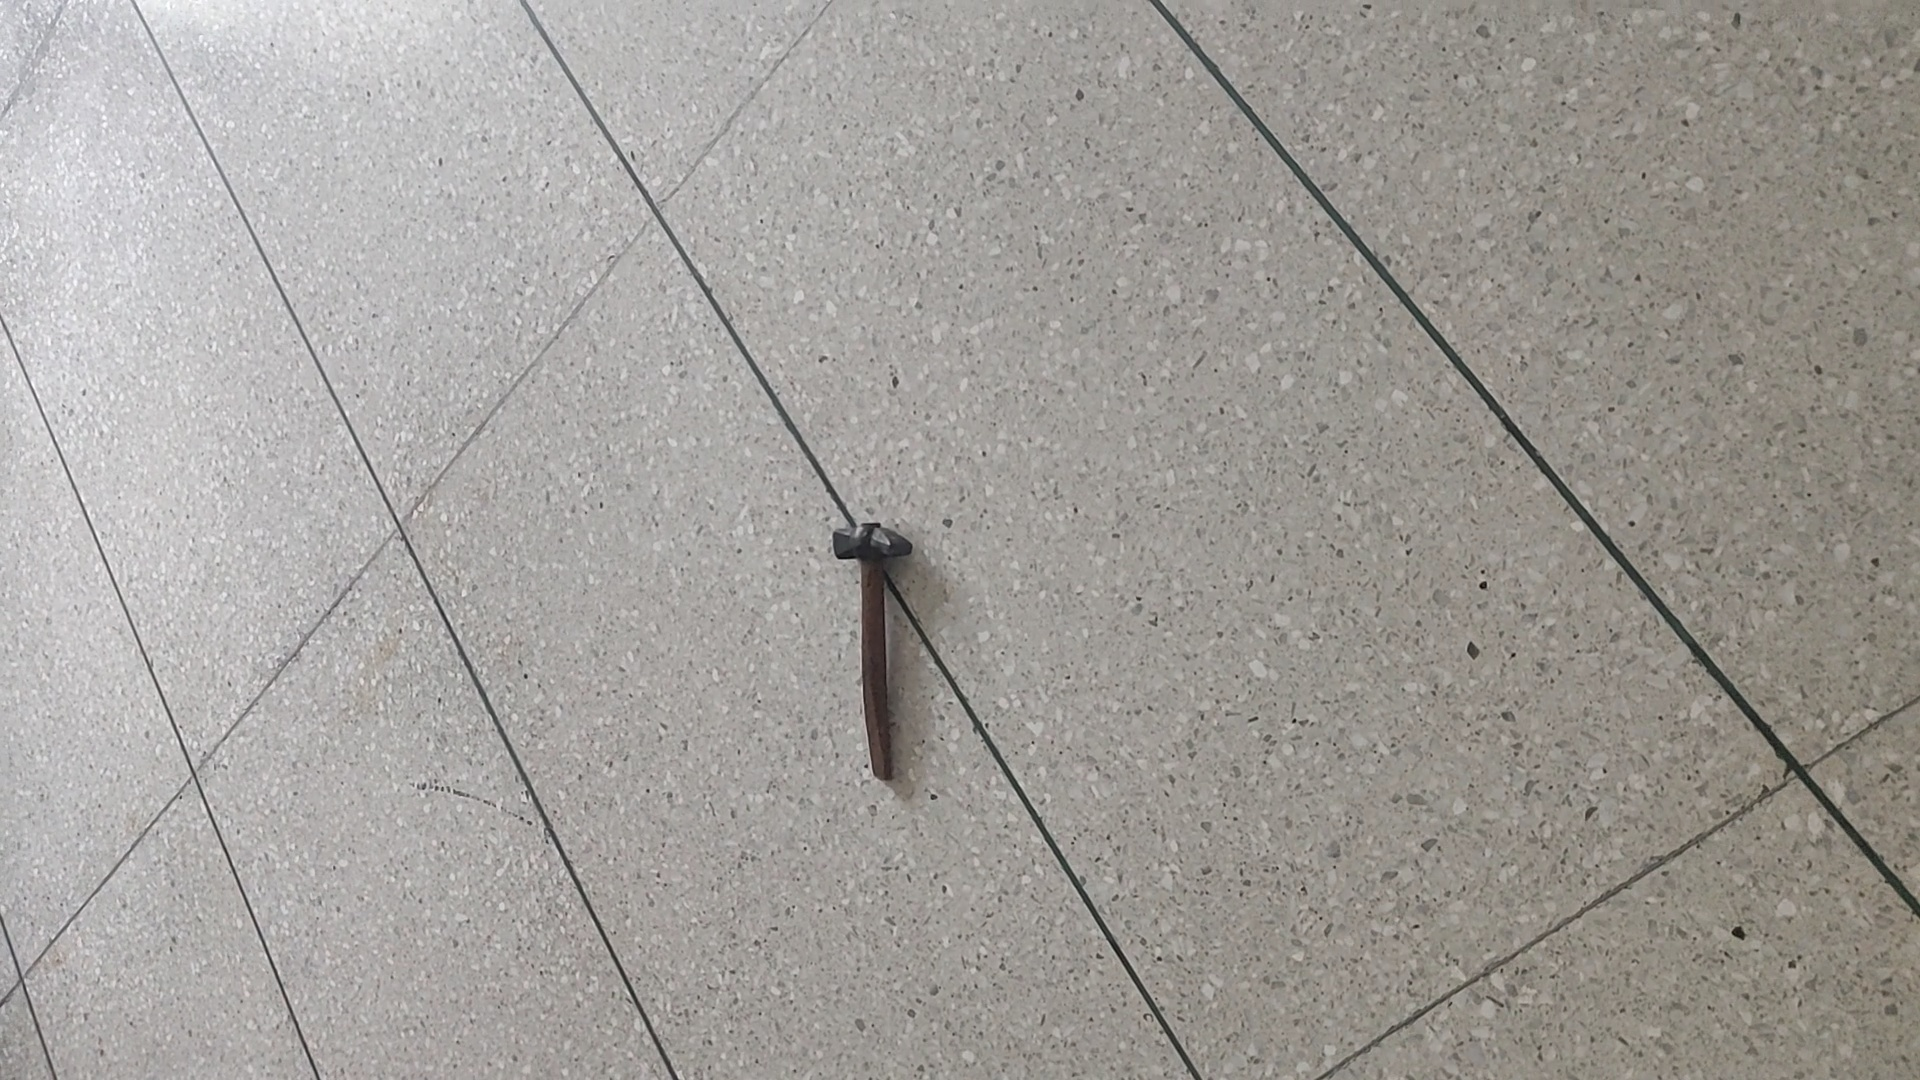hammer: (827, 521, 919, 786)
